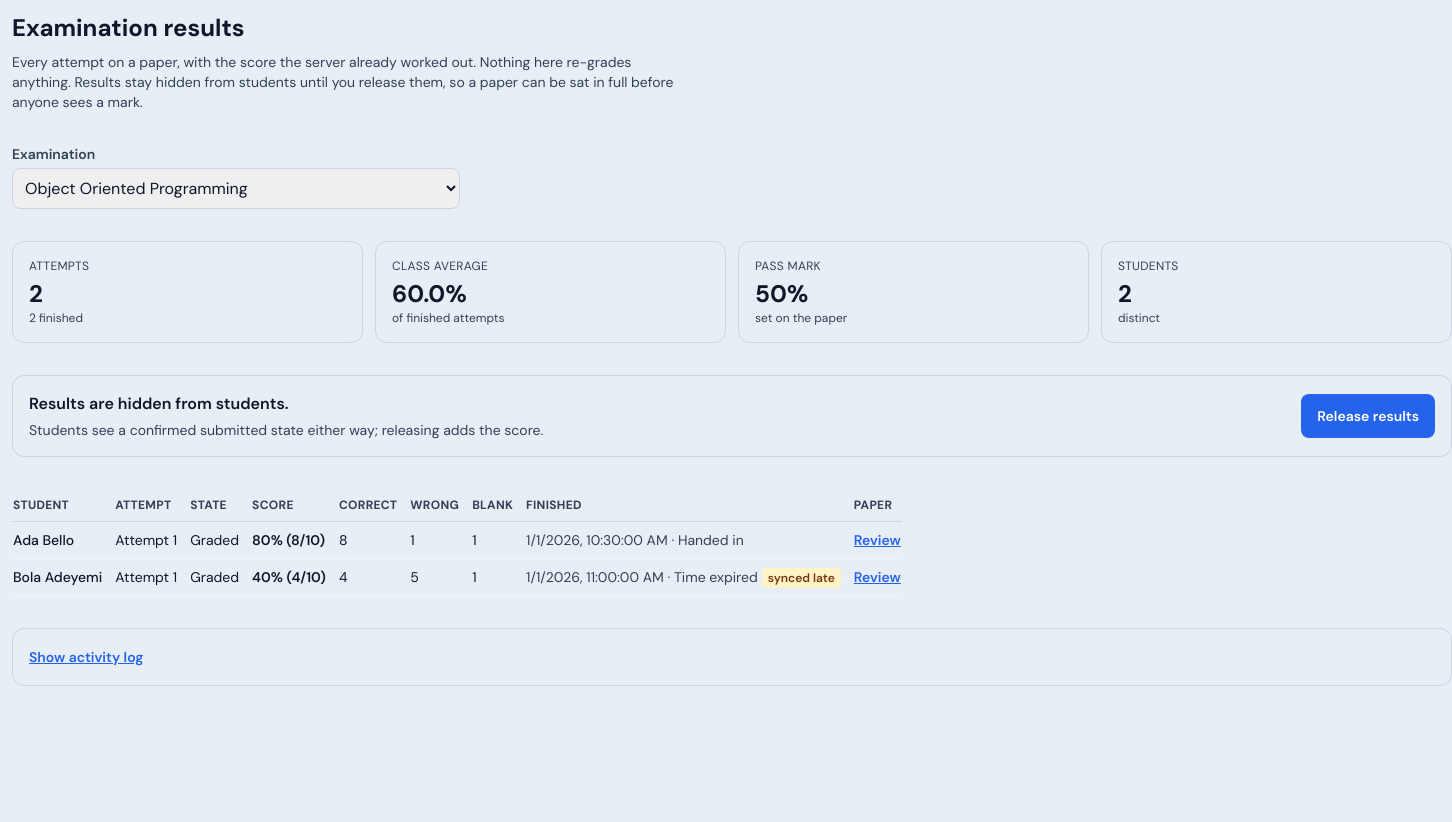
Test: AcademyAdminExamResults › releases results to students on request
Check: the text "Ada Bello" is shown, box [12, 522, 114, 558]
Click the button "Release results" at coordinates (1368, 416), box [1301, 394, 1435, 438]
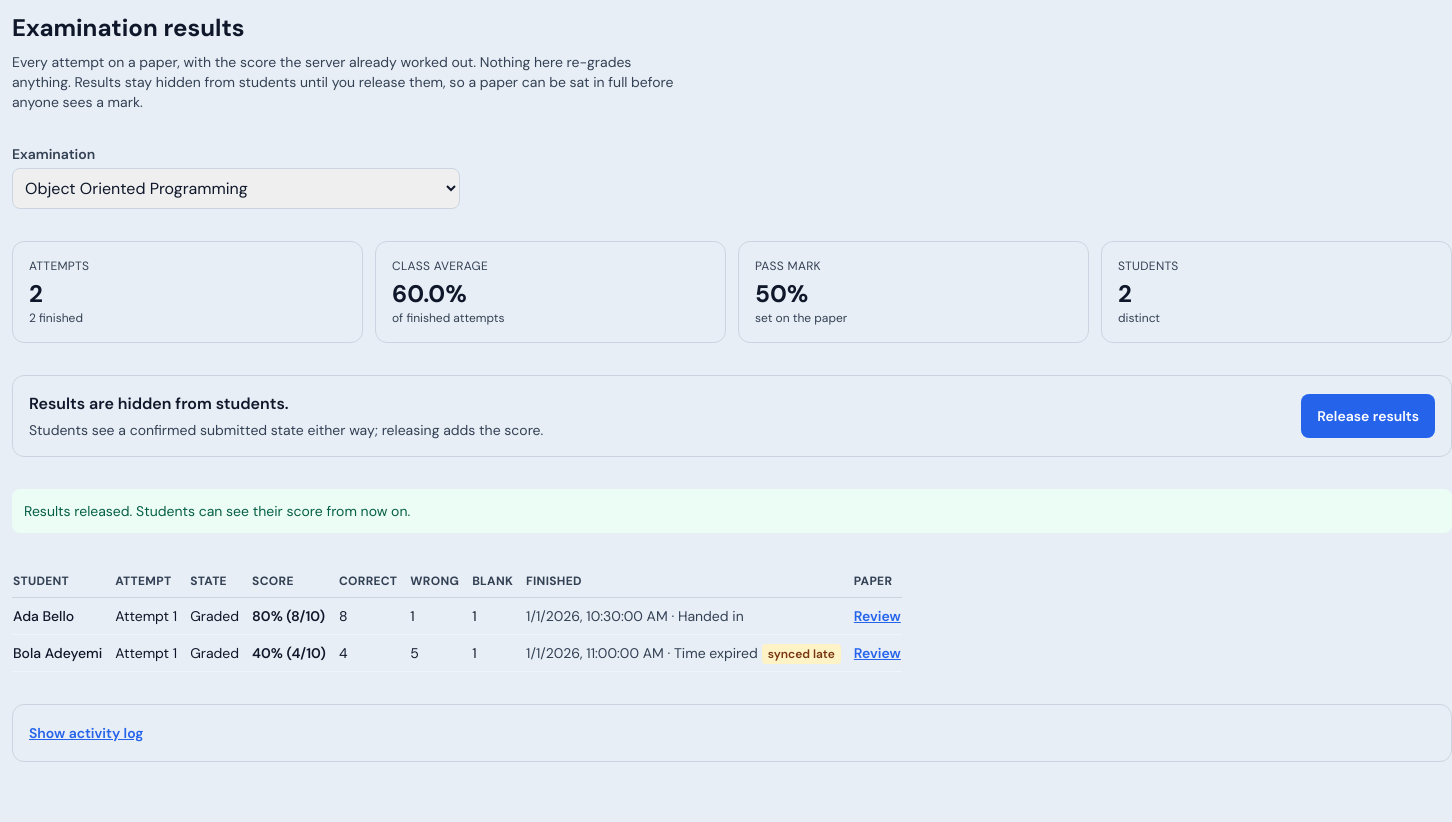
Check: the text "Results released. Students can see their score from now on." is shown, box [12, 489, 1451, 533]
